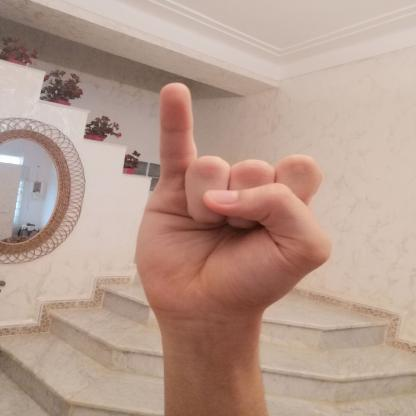MEEM: (106, 69, 357, 338)
